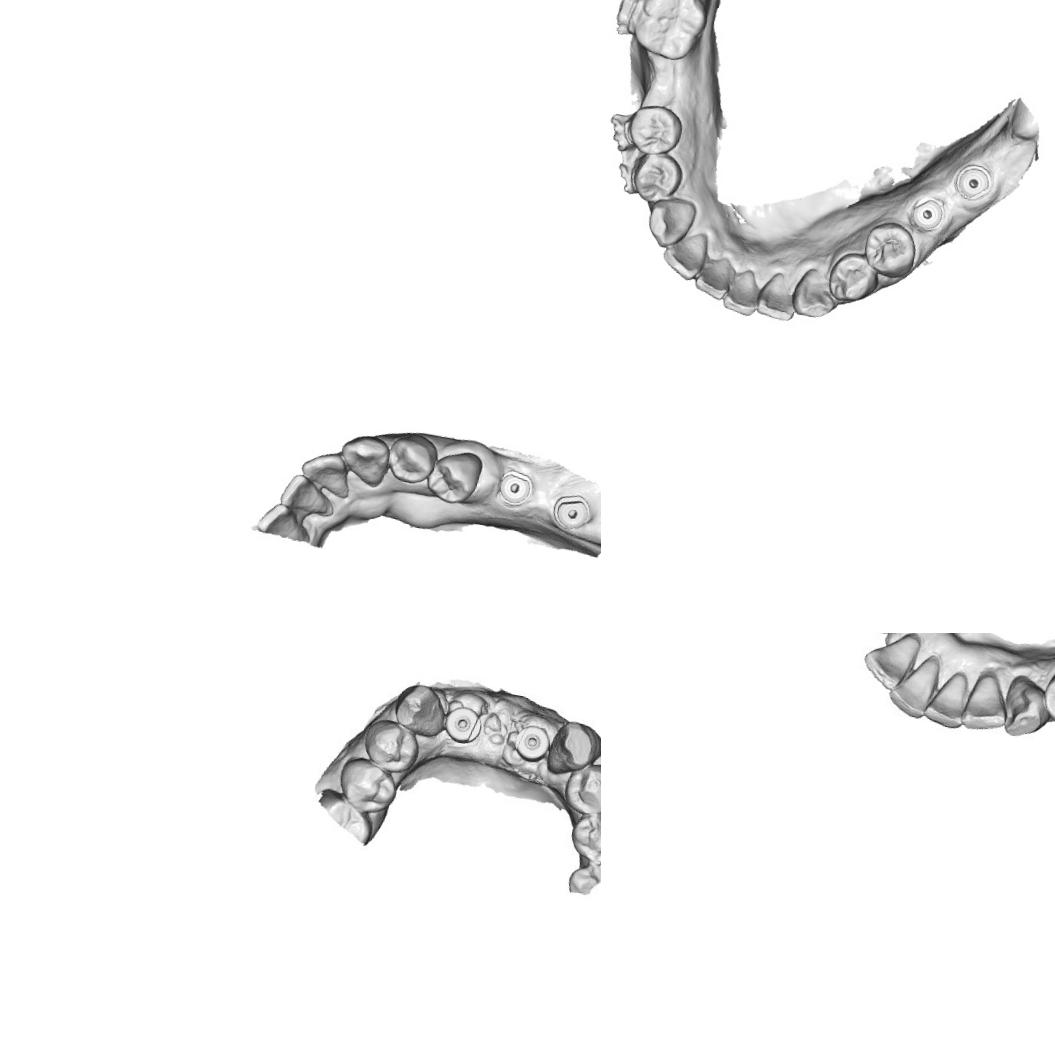canine: (995, 668, 1051, 744), (389, 674, 450, 739), (543, 714, 601, 779), (334, 428, 392, 488), (643, 192, 699, 251), (788, 264, 841, 321)
implant: (548, 488, 596, 534), (440, 702, 487, 748), (904, 190, 948, 236), (505, 721, 551, 764), (950, 160, 994, 204), (494, 466, 536, 507)
incisor: (858, 633, 921, 693), (886, 651, 938, 720), (275, 469, 341, 522), (960, 672, 1013, 737), (295, 444, 356, 500), (921, 669, 971, 732), (657, 224, 711, 282), (753, 267, 801, 322), (718, 264, 764, 318), (692, 253, 734, 301)
molar: (623, 0, 713, 66)
premolar: (330, 752, 402, 820), (355, 712, 423, 780), (422, 443, 486, 508), (858, 216, 921, 282), (623, 98, 686, 160), (628, 146, 686, 208), (824, 247, 883, 307), (382, 428, 439, 490), (555, 755, 601, 820), (563, 803, 601, 873), (1041, 665, 1055, 722)
